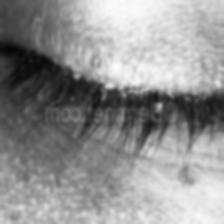Non-Cancerous Skin Condition: (0, 4, 224, 76), (0, 130, 109, 224)
